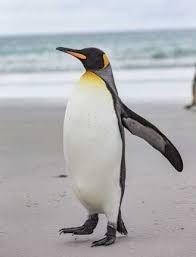king: (45, 28, 162, 257)
